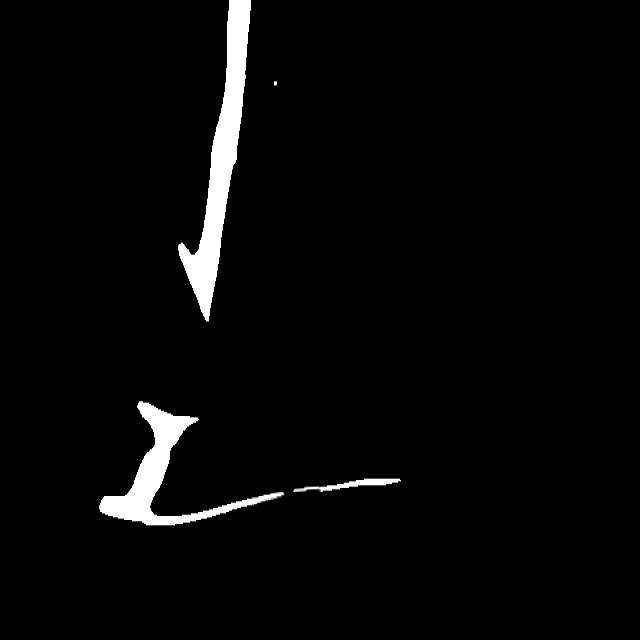sup: (275, 482, 302, 503)
